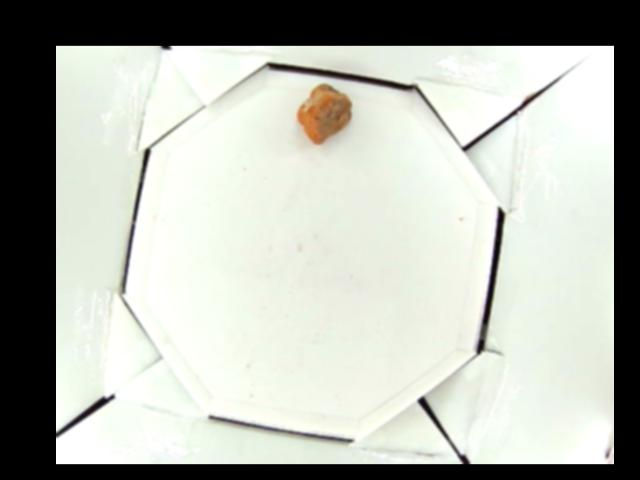Brisk: (297, 83, 351, 144)
